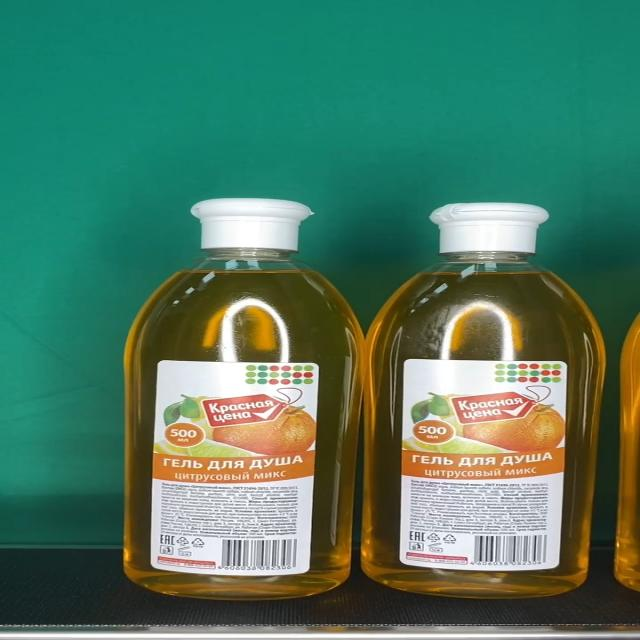Bottle: (123, 199, 364, 599), (363, 204, 604, 598)
Cap: (429, 203, 550, 254), (192, 199, 312, 249)
